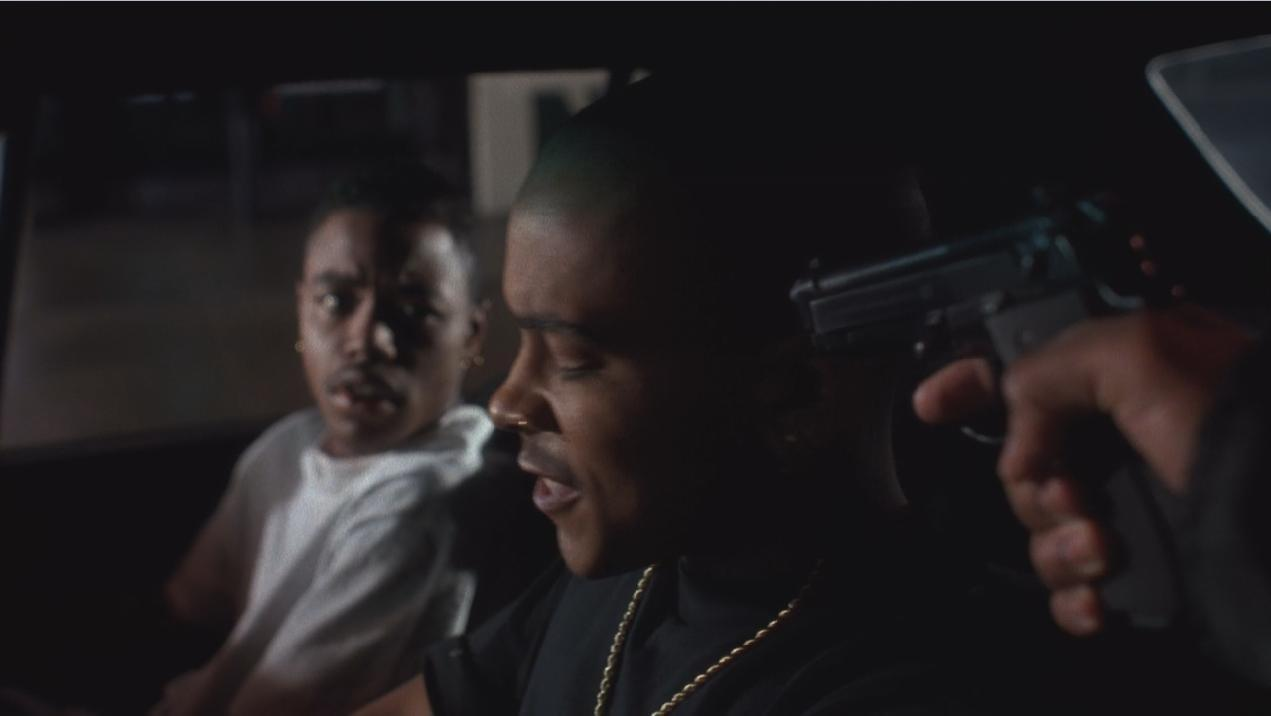gun: (782, 178, 1217, 658)
